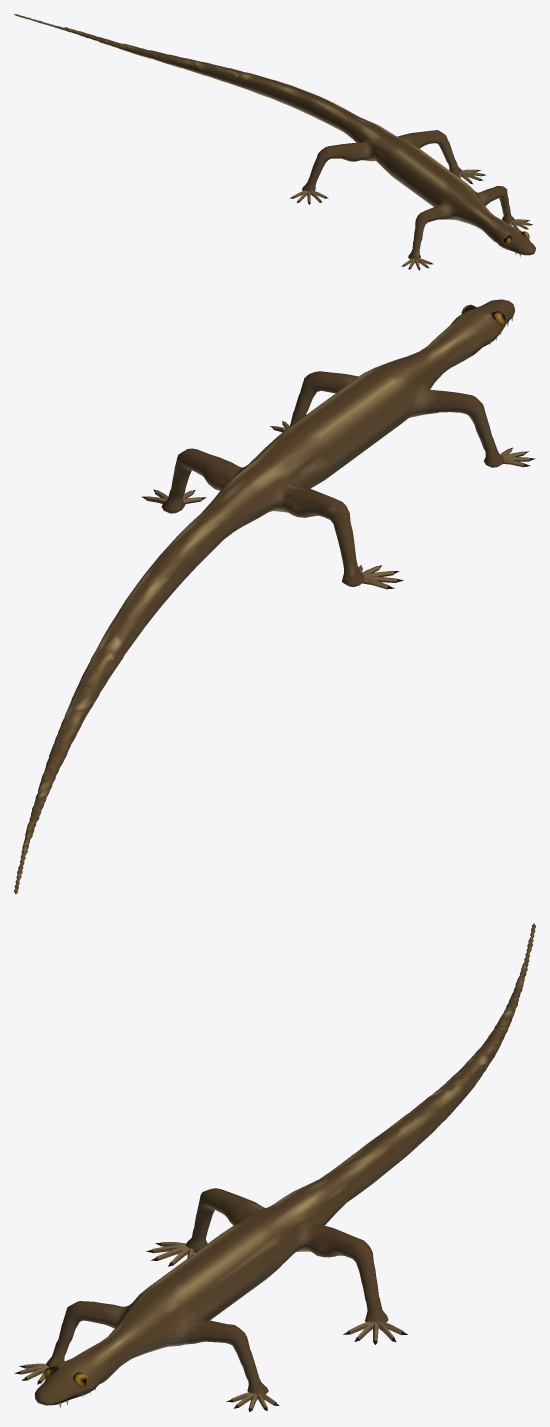
Rendered from Petrolacosaurus.fbx.
The picture shows the model from 3 angles, top to bottom: view 1: azimuth 30°, elevation 25°; view 2: azimuth 150°, elevation 25°; view 3: azimuth 330°, elevation 25°; orthographic projection. The views are drawn at different scales.
Parts seen in each view (by area): view 1: Petrolacosaurus; view 2: Petrolacosaurus; view 3: Petrolacosaurus.
Part boxes in pixels (left/top/right/bottom): Petrolacosaurus: left=14, top=14, right=535, bottom=270; Petrolacosaurus: left=14, top=299, right=535, bottom=894; Petrolacosaurus: left=14, top=923, right=535, bottom=1411.
Size of the model in its own units: 0.3178 by 0.0849 by 1.15.
